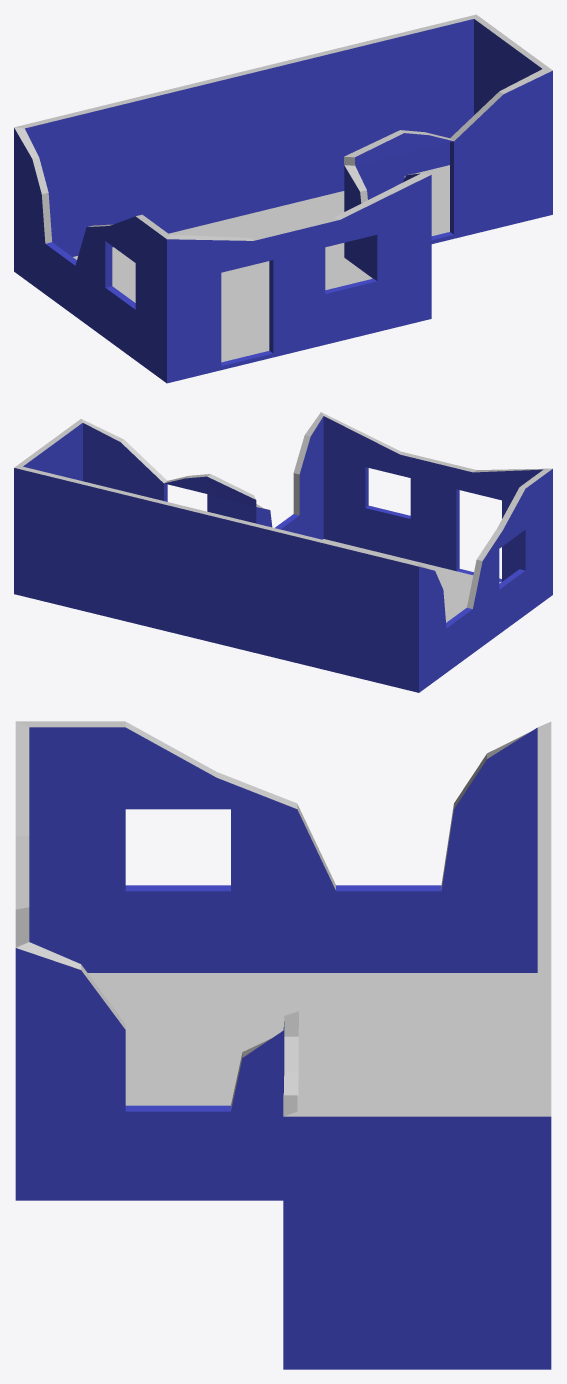
File: building_2.fbx
The picture shows the model from 3 angles, top to bottom: view 1: azimuth 30°, elevation 25°; view 2: azimuth 150°, elevation 25°; view 3: azimuth 270°, elevation 25°; orthographic projection. The views are drawn at different scales.
Visible parts, largest first — view 1: Cube; view 2: Cube; view 3: Cube.
Part boxes in pixels (bbox=[...]): Cube: bbox=[14, 14, 552, 383]; Cube: bbox=[14, 412, 552, 692]; Cube: bbox=[15, 721, 551, 1369].
Bounding box in the file's own units: 6998 × 2086 × 4008.
